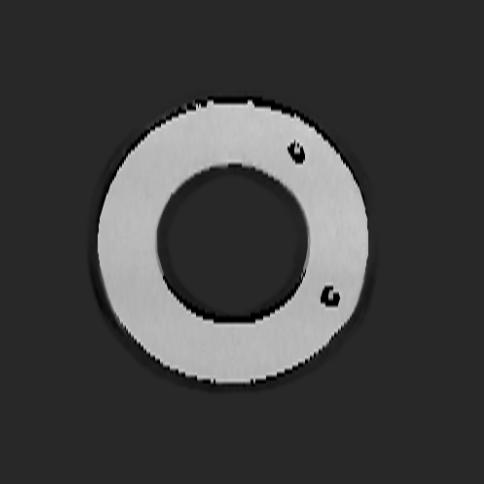defect: (320, 282, 341, 311), (287, 136, 305, 167)
